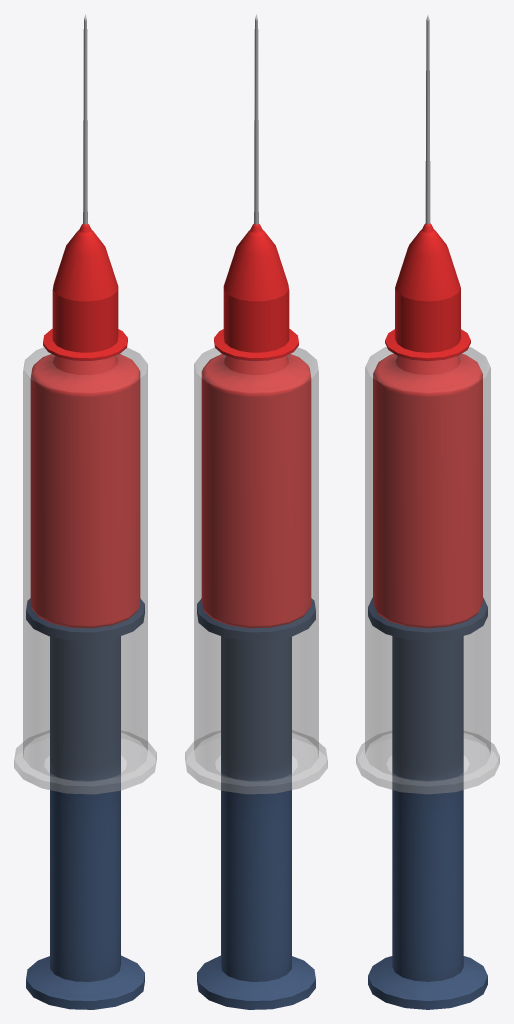
Rendered from Parent_Run_Tooth_Injection.fbx.
The picture shows the model from 3 angles, left to right: view 1: azimuth 30°, elevation 25°; view 2: azimuth 150°, elevation 25°; view 3: azimuth 270°, elevation 25°; orthographic projection.
Parts seen in each view (by area): view 1: Injection; view 2: Injection; view 3: Injection.
Part boxes in pixels (left/top/right/bottom): Injection: left=14, top=14, right=156, bottom=1009; Injection: left=185, top=14, right=327, bottom=1009; Injection: left=356, top=15, right=499, bottom=1009.
Size of the model in its own units: 13.58 by 101 by 13.58.
